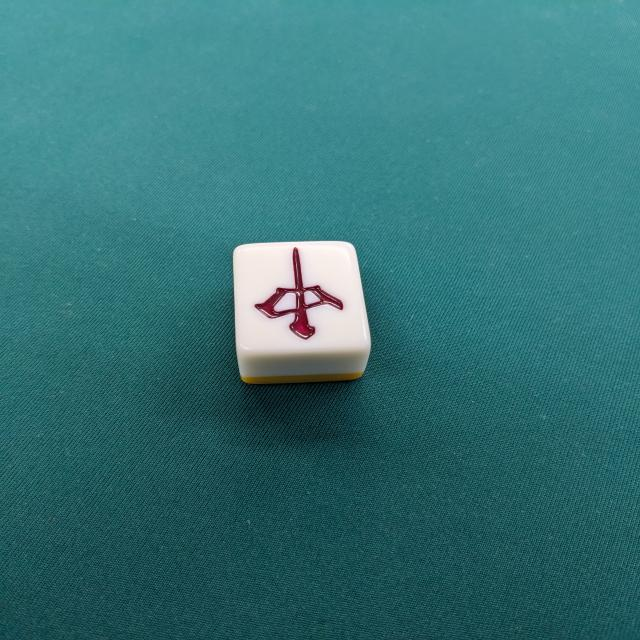tyun: (231, 241, 372, 388)
